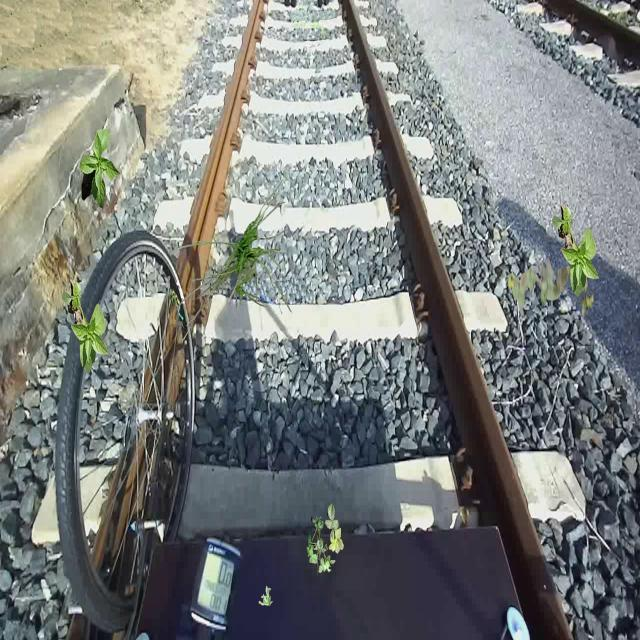Plant: (175, 179, 294, 342), (507, 250, 594, 318), (552, 203, 600, 298), (62, 279, 110, 374), (79, 129, 121, 209), (306, 503, 344, 576), (259, 586, 273, 606)
